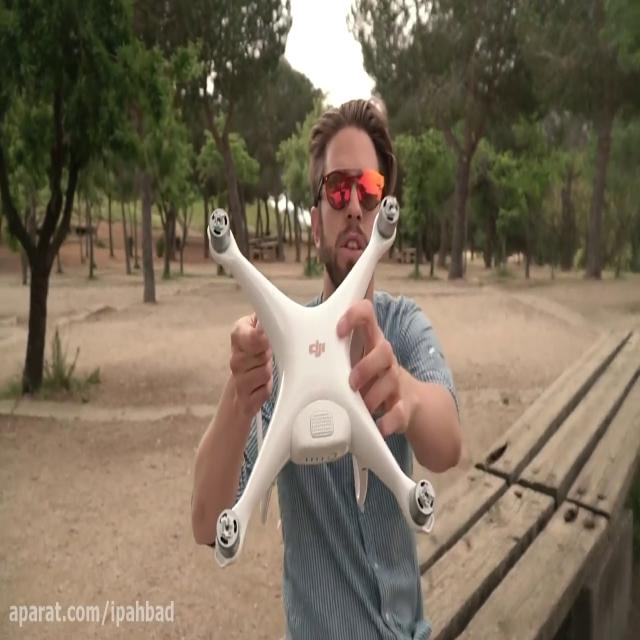drone: (205, 192, 435, 568)
